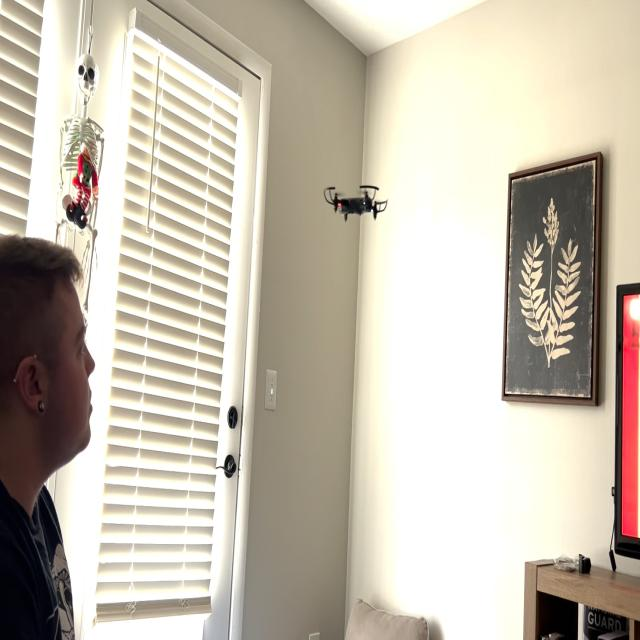drone: (316, 162, 393, 231)
